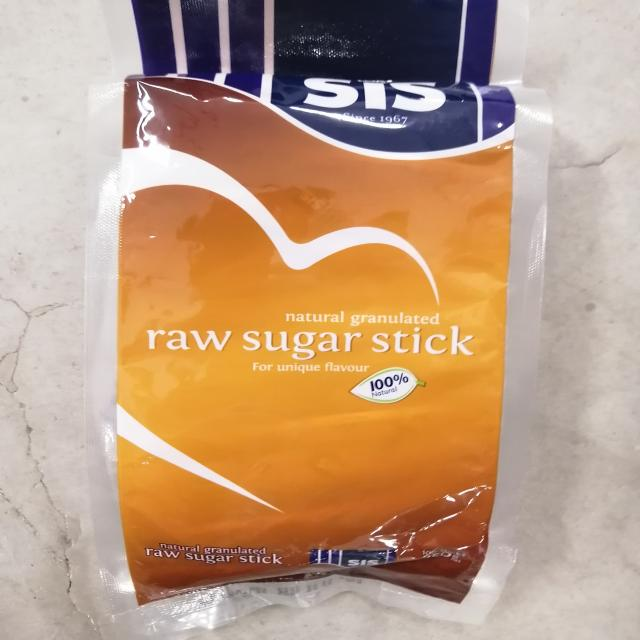object_name: (123, 4, 515, 601)
